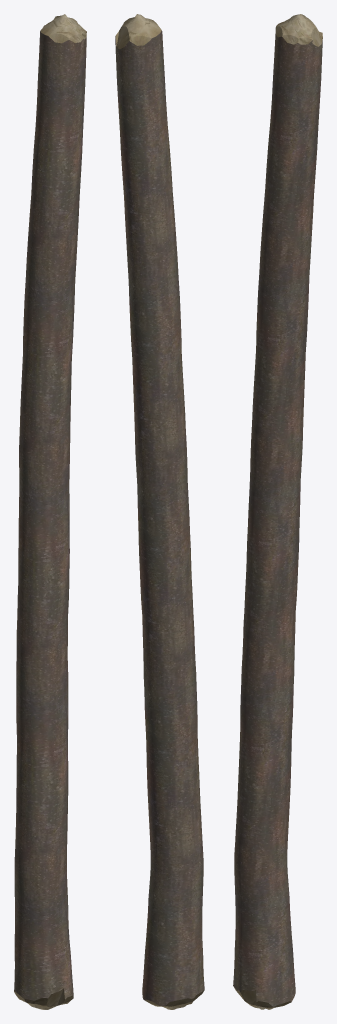
3 renders of one model, left to right at view 1: azimuth 30°, elevation 25°; view 2: azimuth 150°, elevation 25°; view 3: azimuth 330°, elevation 25°, orthographic.
Parts seen in each view (by area): view 1: SM_BM_Ash_Tree_02_full_LOD0; view 2: SM_BM_Ash_Tree_02_full_LOD0; view 3: SM_BM_Ash_Tree_02_full_LOD0.
Part boxes in pixels (x1,y1,x2,y2): SM_BM_Ash_Tree_02_full_LOD0: (14,14,86,1009); SM_BM_Ash_Tree_02_full_LOD0: (115,14,204,1009); SM_BM_Ash_Tree_02_full_LOD0: (233,14,322,1009).
Size of the model in its own units: 0.6395 by 8.21 by 0.5112.
1 material, 1 textured.
